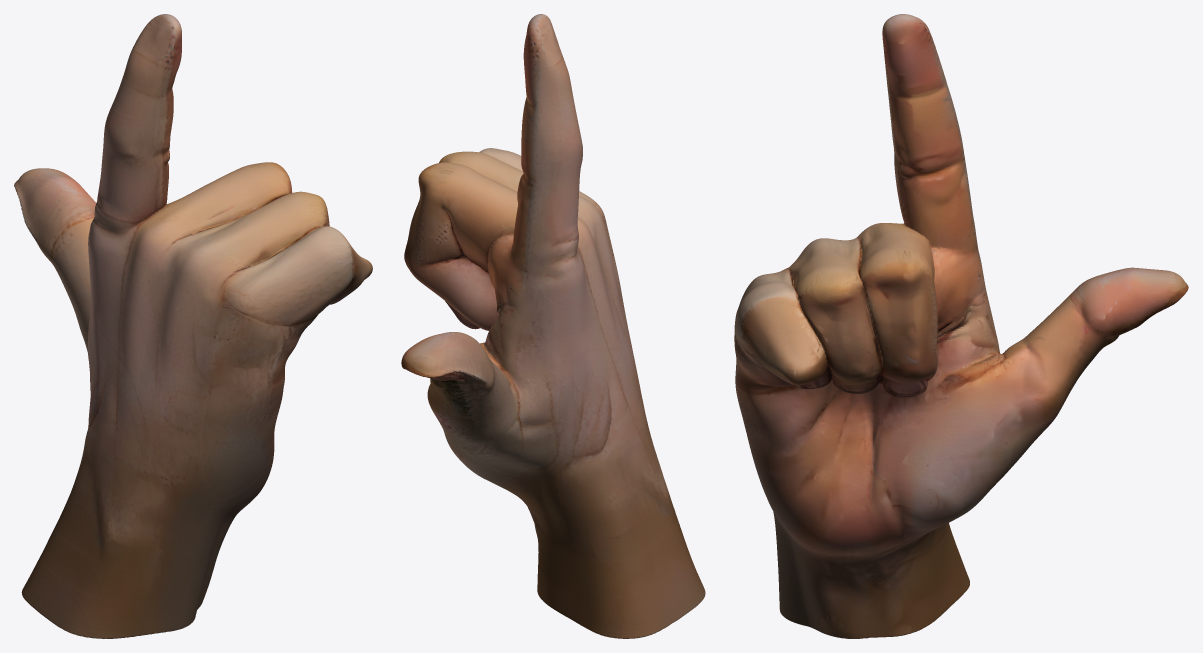
Rendered from letter_L.glb.
3 renders of one model, left to right at view 1: azimuth 30°, elevation 25°; view 2: azimuth 150°, elevation 25°; view 3: azimuth 270°, elevation 25°, orthographic. The views are drawn at different scales.
Parts seen in each view (by area): view 1: tripo_node_d8a6268c-5905-45eb-a2e4-33e14b3c7d73; view 2: tripo_node_d8a6268c-5905-45eb-a2e4-33e14b3c7d73; view 3: tripo_node_d8a6268c-5905-45eb-a2e4-33e14b3c7d73.
Boxes of the visible parts, left/top/right/bottom form: tripo_node_d8a6268c-5905-45eb-a2e4-33e14b3c7d73: left=14, top=14, right=372, bottom=638; tripo_node_d8a6268c-5905-45eb-a2e4-33e14b3c7d73: left=401, top=14, right=705, bottom=638; tripo_node_d8a6268c-5905-45eb-a2e4-33e14b3c7d73: left=734, top=14, right=1188, bottom=638.
Size of the model in its own units: 0.5343 by 1 by 0.663.
1 material, 1 textured.
